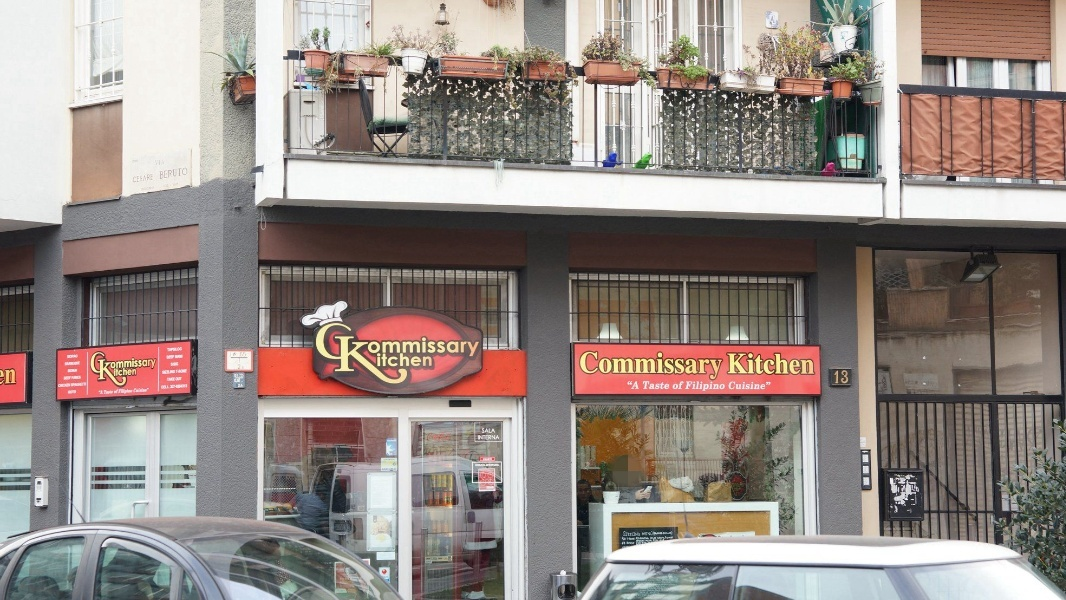text: (321, 321, 336, 396), (337, 321, 352, 396), (353, 321, 368, 396), (369, 321, 384, 396), (385, 321, 400, 396), (401, 321, 416, 396), (417, 321, 432, 396), (433, 321, 448, 396), (449, 321, 464, 396), (465, 321, 480, 396), (65, 353, 80, 396), (161, 347, 176, 390), (97, 349, 112, 389), (113, 349, 128, 389), (129, 349, 144, 389), (177, 347, 189, 390), (593, 350, 608, 383), (609, 350, 624, 383), (625, 350, 640, 383), (641, 350, 656, 383), (657, 350, 672, 383), (673, 350, 688, 383), (689, 350, 704, 383), (705, 350, 720, 383), (145, 349, 157, 389), (578, 350, 592, 383), (314, 321, 320, 396), (737, 352, 752, 375), (753, 352, 768, 375), (769, 352, 784, 375), (785, 352, 800, 375), (801, 352, 815, 375), (625, 530, 640, 551), (641, 530, 656, 551), (657, 530, 672, 551), (1, 368, 16, 387), (58, 353, 64, 396), (81, 353, 87, 396), (90, 349, 96, 389), (481, 321, 484, 396), (835, 370, 848, 386), (727, 352, 736, 375), (161, 168, 176, 181), (689, 381, 704, 393), (705, 381, 720, 393), (721, 350, 726, 383), (433, 433, 448, 444), (145, 182, 160, 193), (161, 182, 176, 193), (177, 168, 189, 181), (737, 381, 752, 391), (753, 381, 768, 391), (673, 381, 686, 391), (132, 174, 144, 184), (627, 381, 640, 390), (642, 382, 656, 390), (657, 382, 671, 390), (233, 373, 240, 389), (481, 435, 496, 441), (145, 174, 154, 184), (482, 428, 496, 434), (729, 381, 736, 391), (673, 530, 676, 551), (721, 381, 726, 393), (242, 365, 256, 369), (427, 433, 432, 444), (231, 352, 240, 358), (241, 373, 244, 389), (481, 463, 496, 466), (449, 433, 453, 444), (241, 352, 248, 358), (622, 530, 624, 551), (154, 160, 160, 167), (769, 381, 773, 391), (483, 458, 496, 461), (161, 160, 166, 167), (141, 182, 144, 193), (177, 182, 180, 193), (686, 381, 688, 393), (497, 435, 501, 441), (474, 463, 480, 466), (849, 370, 850, 386), (478, 435, 480, 441), (238, 364, 240, 369), (497, 463, 500, 466), (497, 428, 498, 434), (241, 364, 242, 369)
